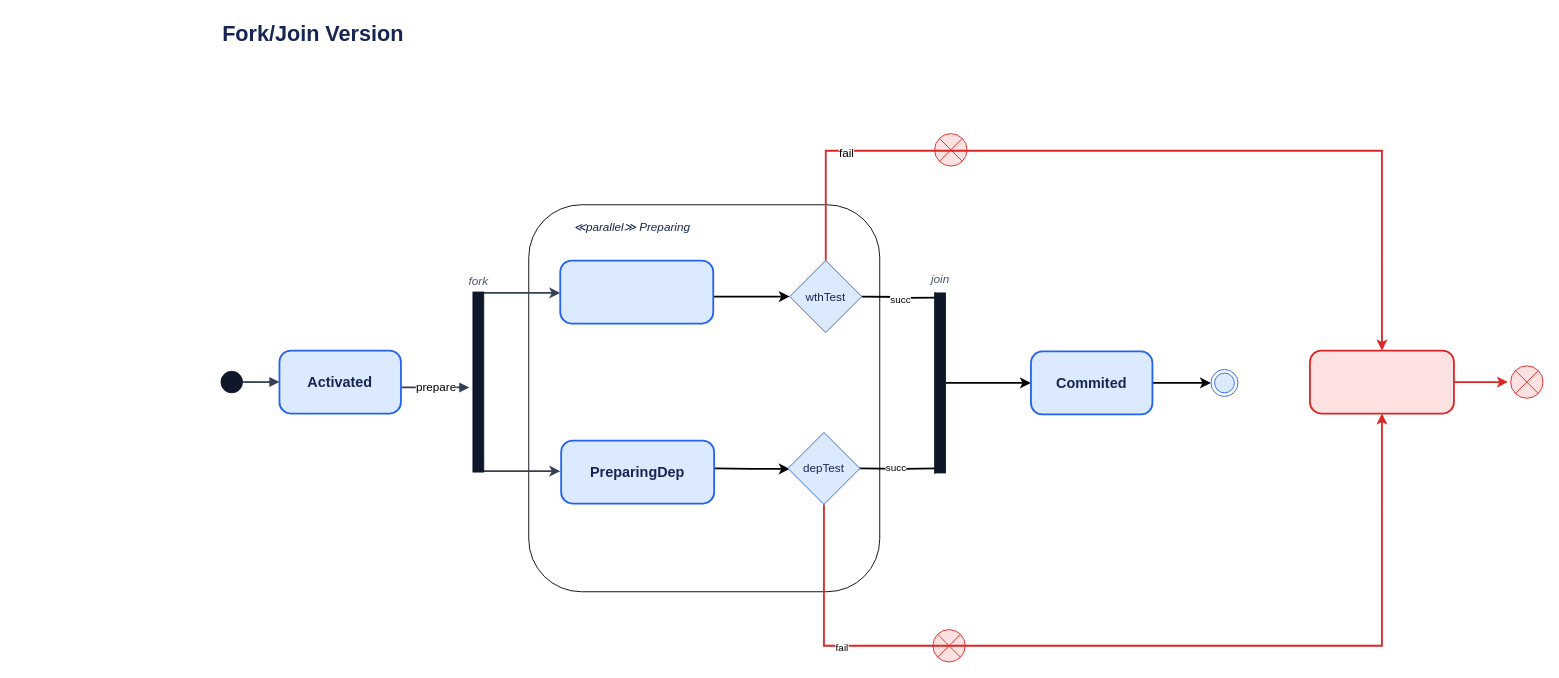
Image size: 1559x678. Some labels were removed from this diagram. The shapes that lost their labels are listed below. From the top down, each one's centre as x and y in pixels, then its label:
At (636,291): "PreparingWth".
At (1381,381): "RolledBack".
